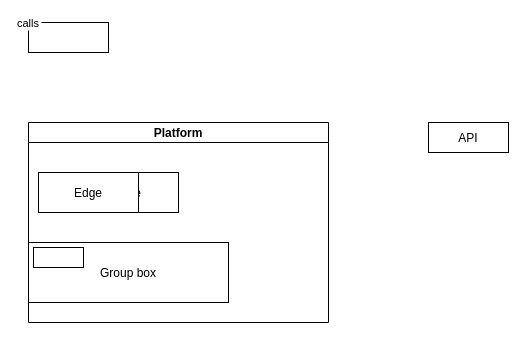
Some shapes in this 525 by 339 pixel diagram are drawn without their labels. Each missing label, with the centre of its shape:
"Customer" goes at point (68, 37).
"Deep" goes at point (58, 257).
